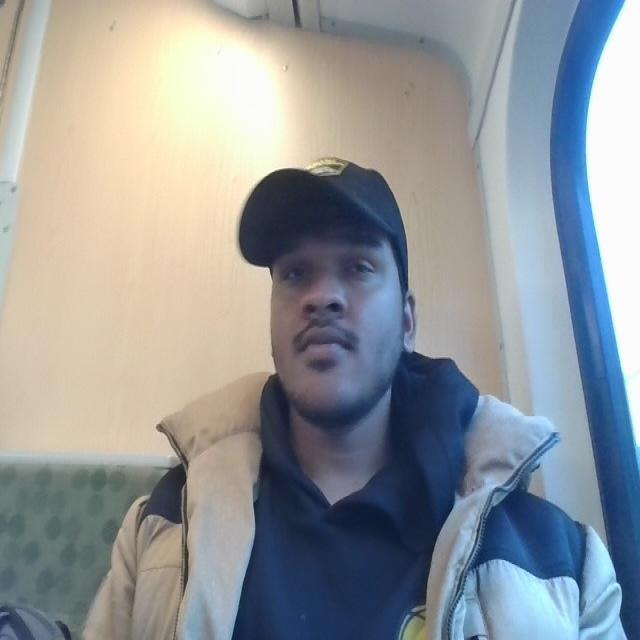hat: (228, 130, 428, 278)
